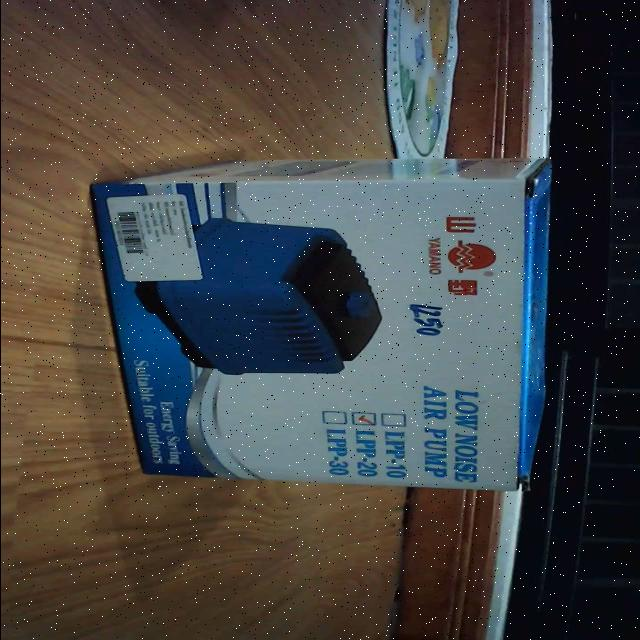YAMANO_LPP_20: (67, 156, 569, 497)
